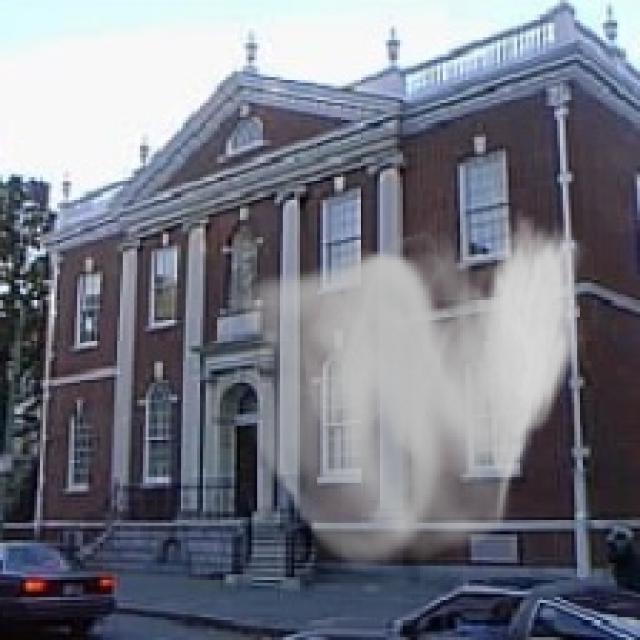Smoke: (243, 208, 586, 578)
